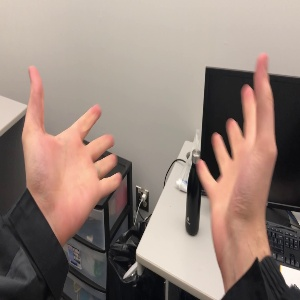hand: (21, 64, 122, 215), (196, 52, 277, 229)
